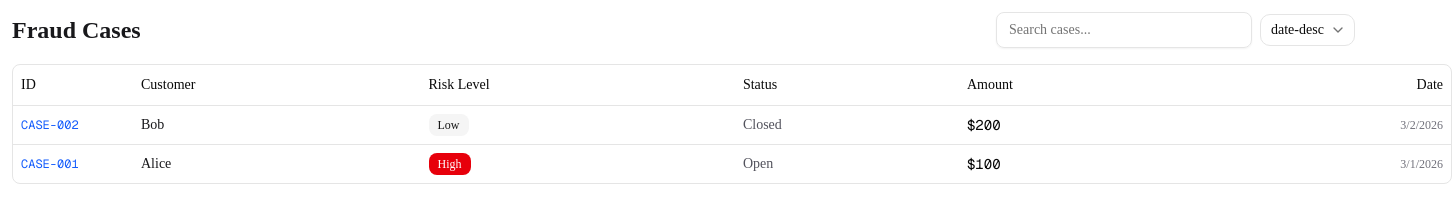
Test case: CaseList › filters cases by customer name
The image size is (1452, 201).
Type "Alice" into the field with placeholder "Search cases..." at (1124, 30), box [996,12,1252,48]
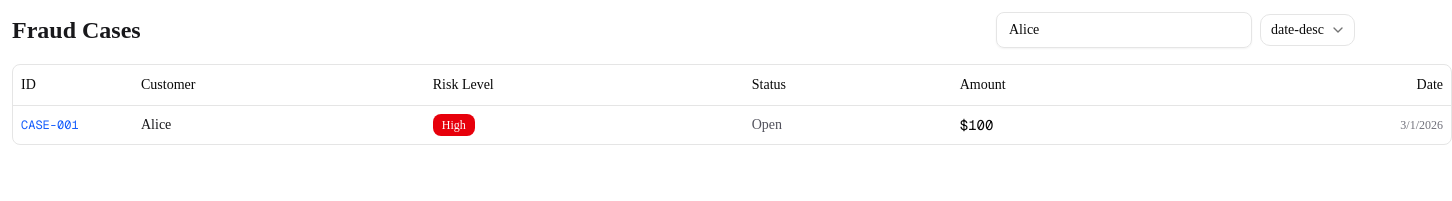
Expected: the text "Alice" is shown, [133,105,425,144]
Result: the text "Bob" is gone
